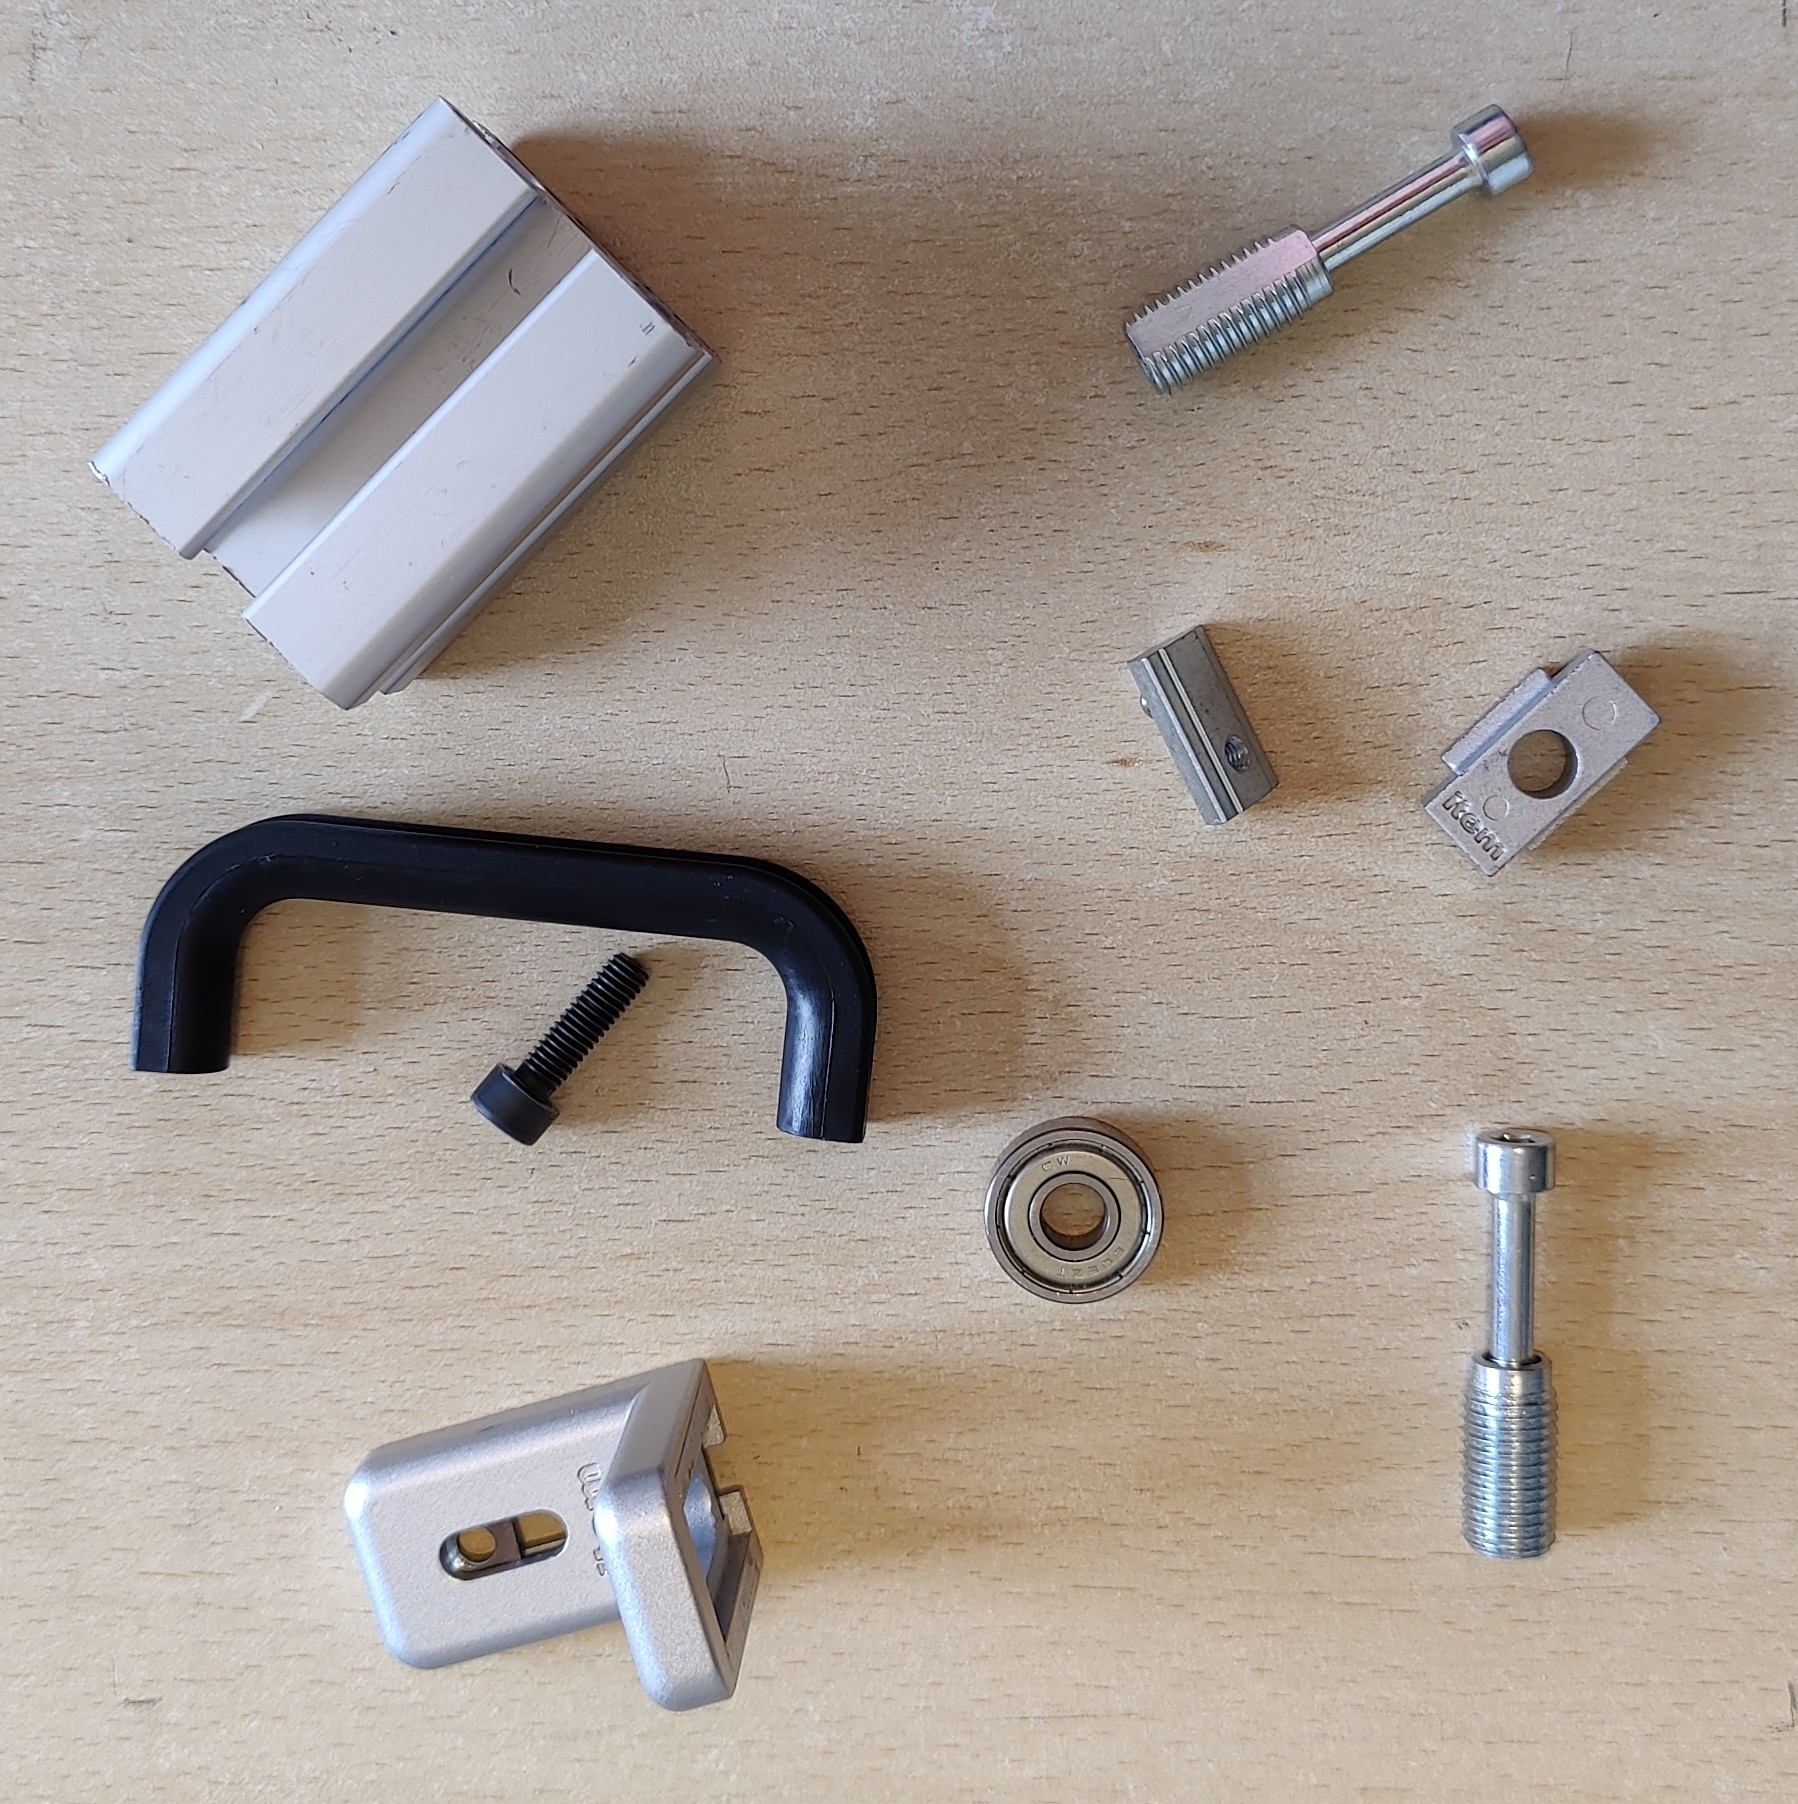Aluminium Extension: (82, 91, 726, 714), (339, 1353, 769, 1713)
Ball Bearing: (980, 1114, 1167, 1309)
Pull Handle: (127, 810, 879, 1146)
Shoulder Socket Head Cap Screw: (1116, 99, 1539, 398), (1454, 1121, 1559, 1562)
Socket Head Cap Screw: (469, 948, 652, 1147)
T Nut Square: (1414, 642, 1663, 881)
T Spring Nut: (1126, 619, 1283, 826)
